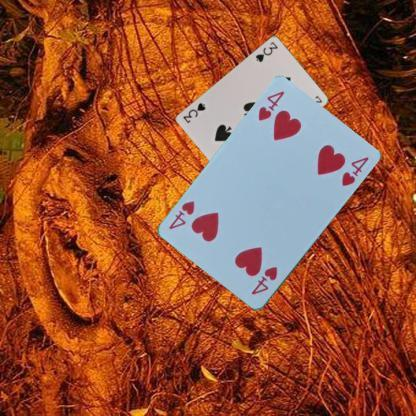3s: (253, 39, 279, 63)
4h: (248, 264, 280, 298), (255, 88, 286, 122)
